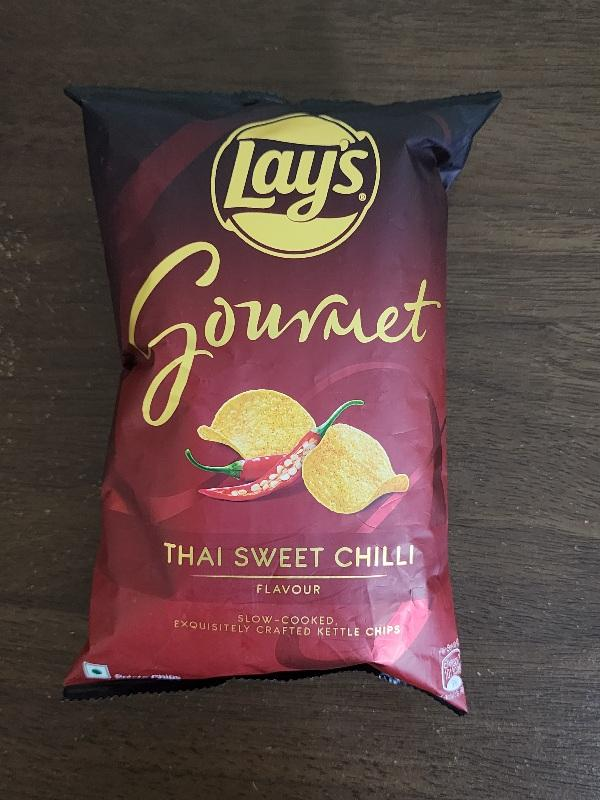Lays: (60, 84, 500, 716)
